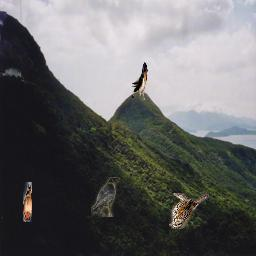Crow: (91, 177, 120, 217)
Sparrow: (169, 193, 209, 229)
Swallow: (132, 62, 148, 102), (23, 182, 32, 222)
